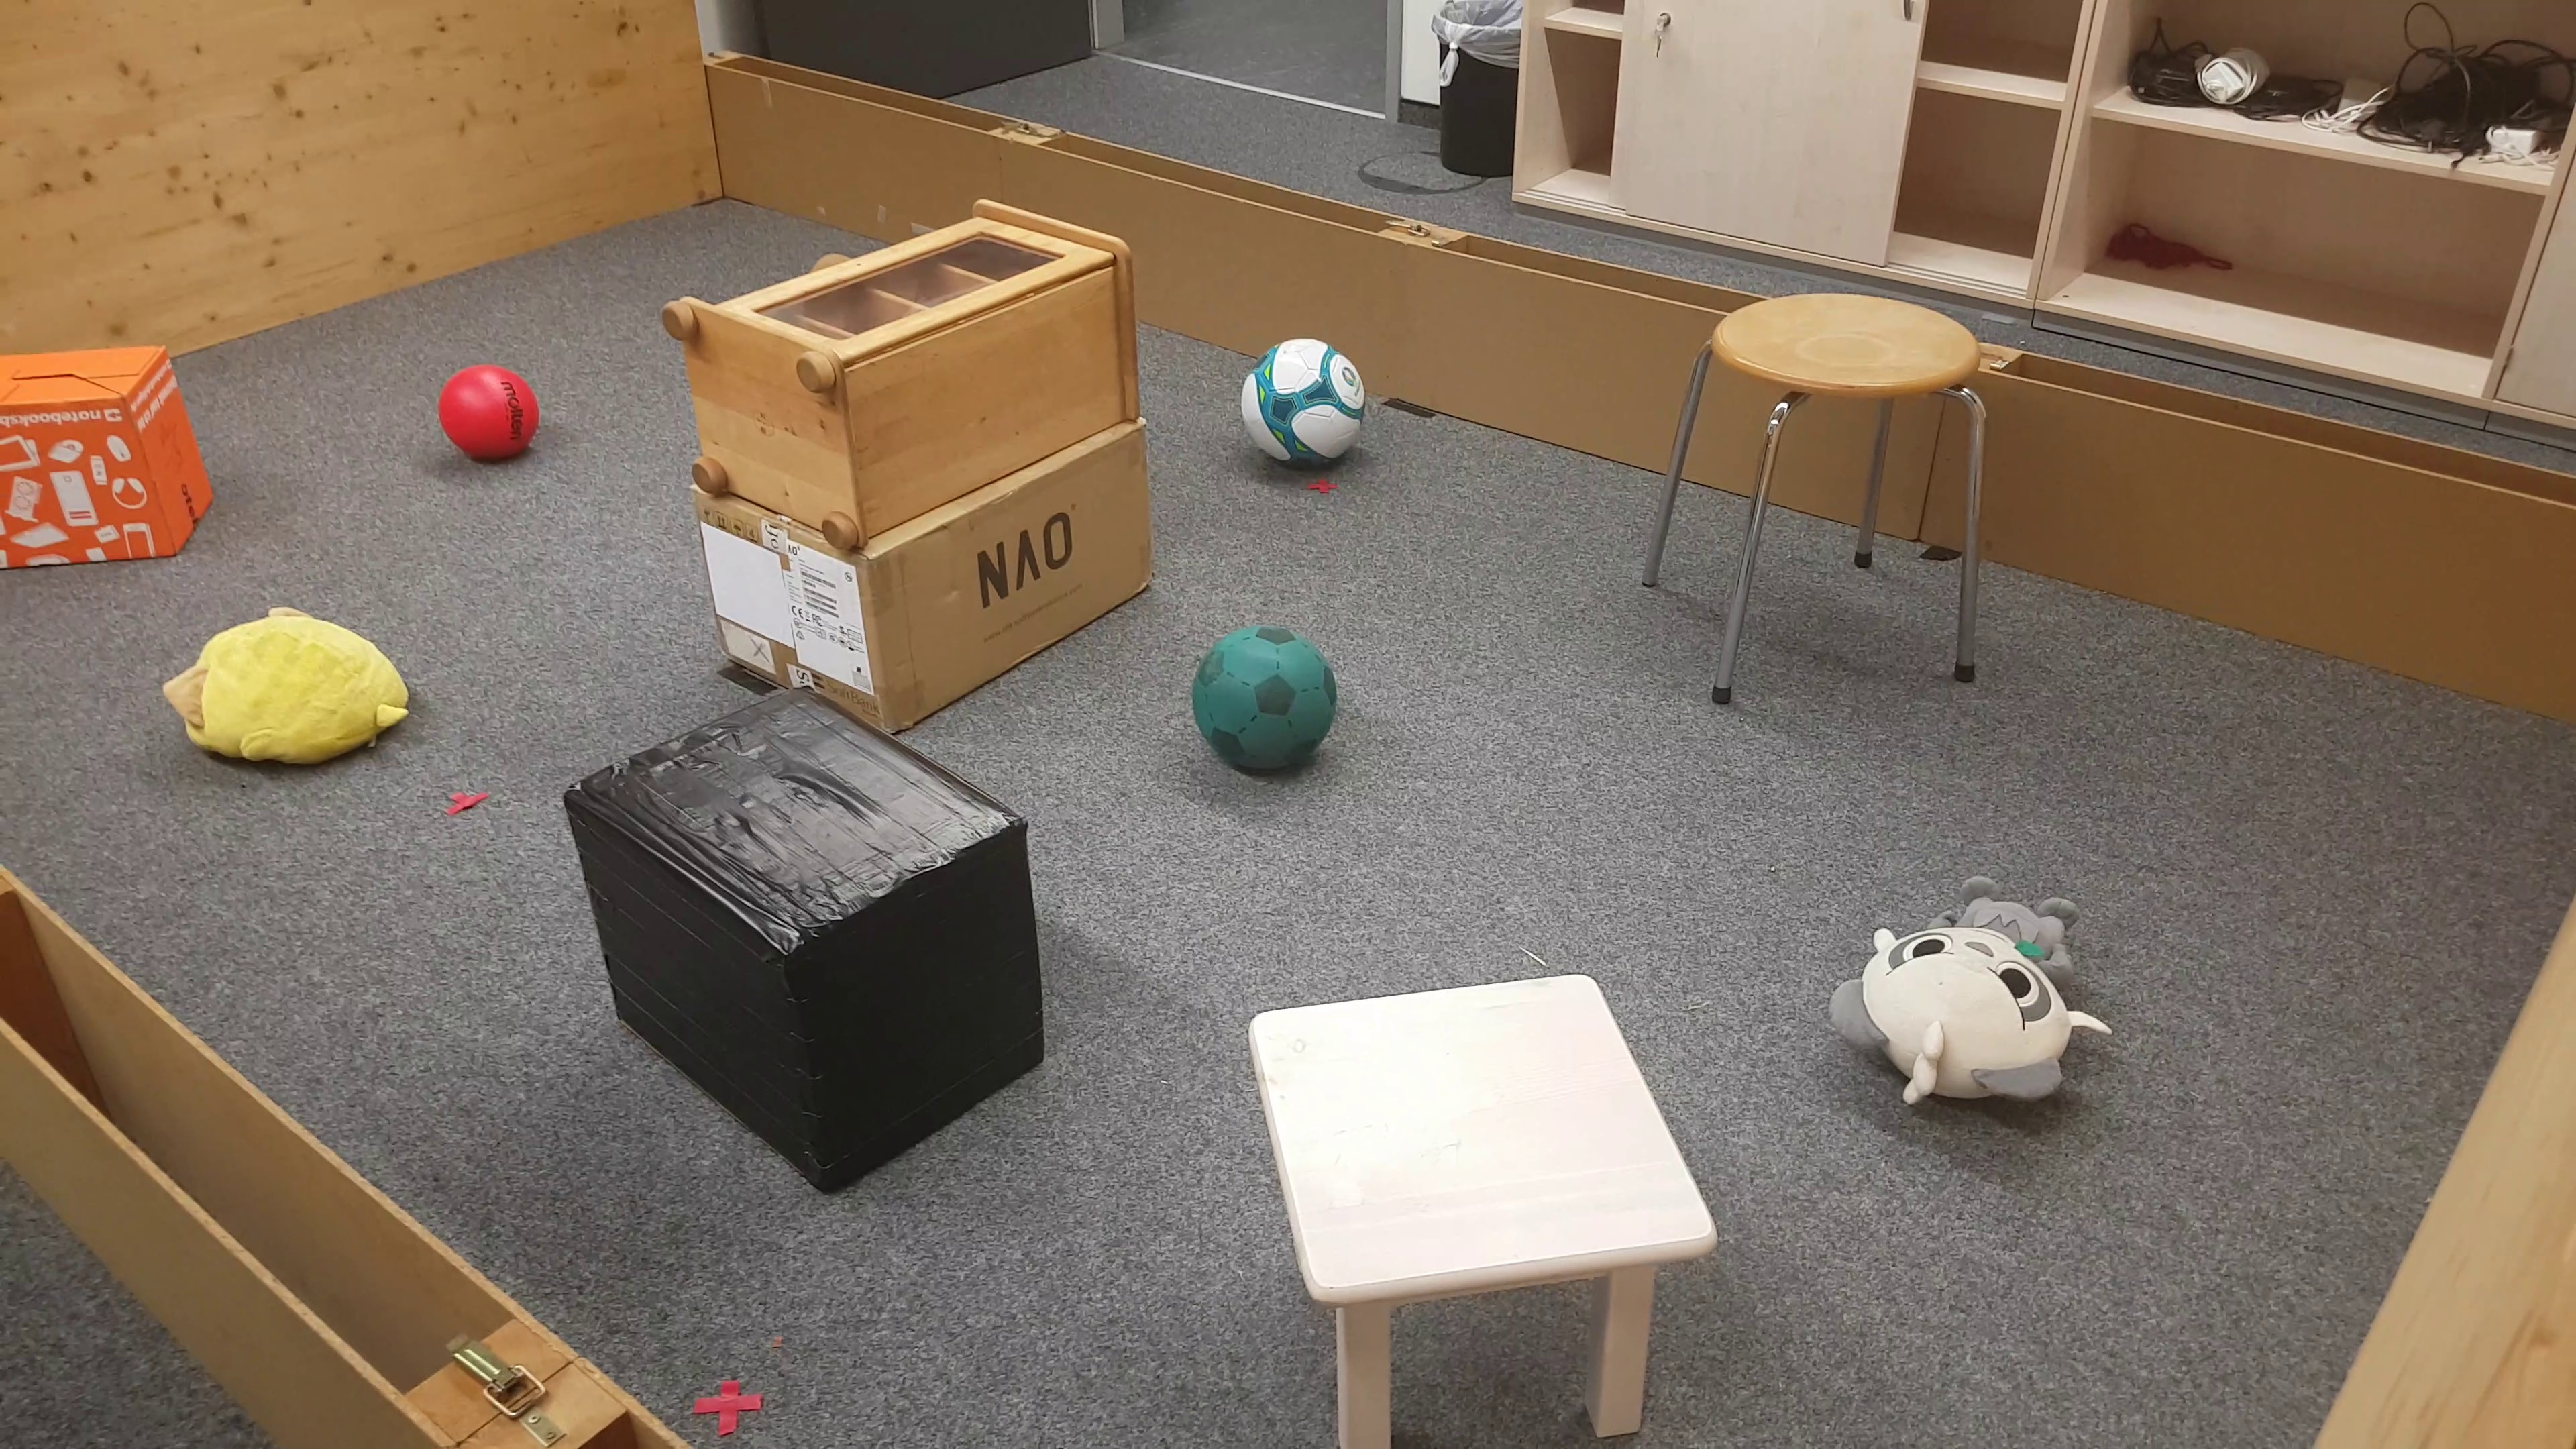grasp: (1840, 869, 2121, 1118), (170, 598, 423, 771)
kick: (1196, 626, 1341, 773), (1246, 338, 1371, 488), (444, 363, 545, 465)
push: (563, 681, 1058, 1192), (0, 343, 216, 577)
